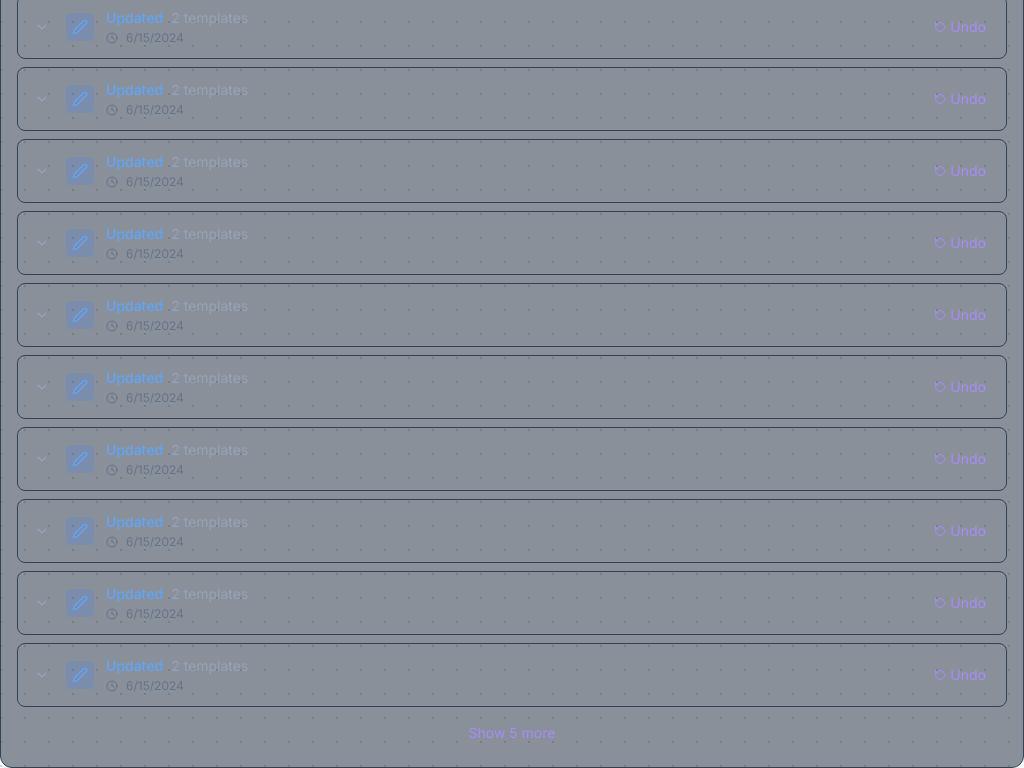
Scenario: OperationHistoryPanel › Show More › shows all operations after clicking Show more
(page scrolled)
Click the button "Show 5 more" at (512, 733), box [17,715,1007,751]
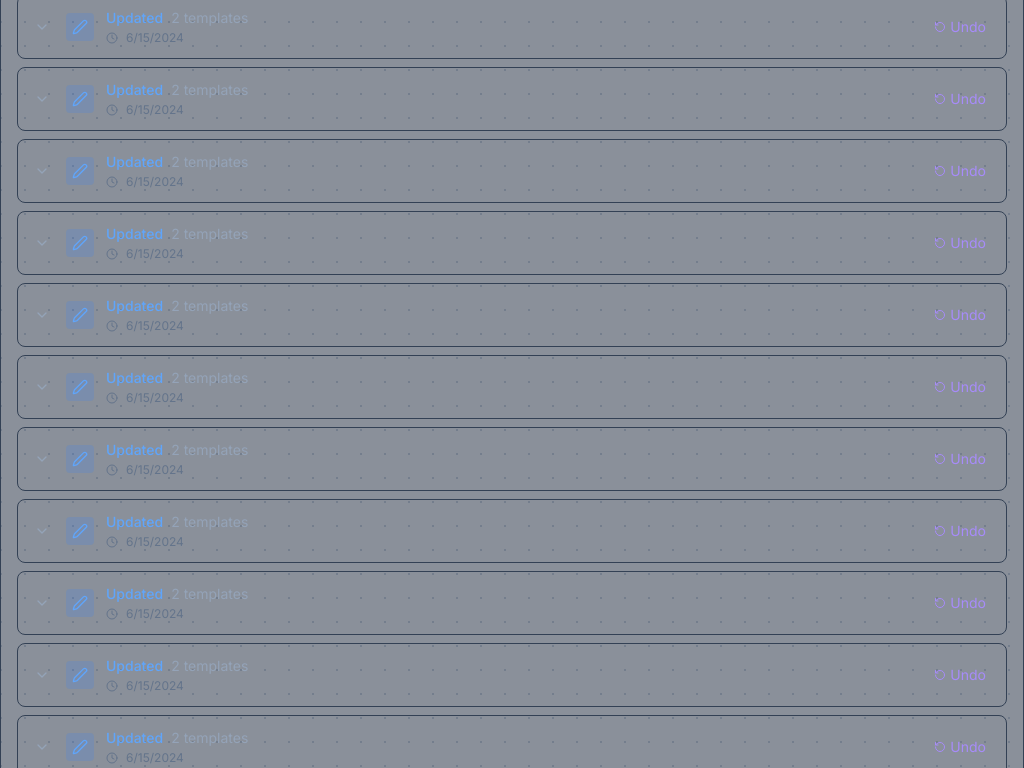
expect the button "Show 5 more" is gone: met
